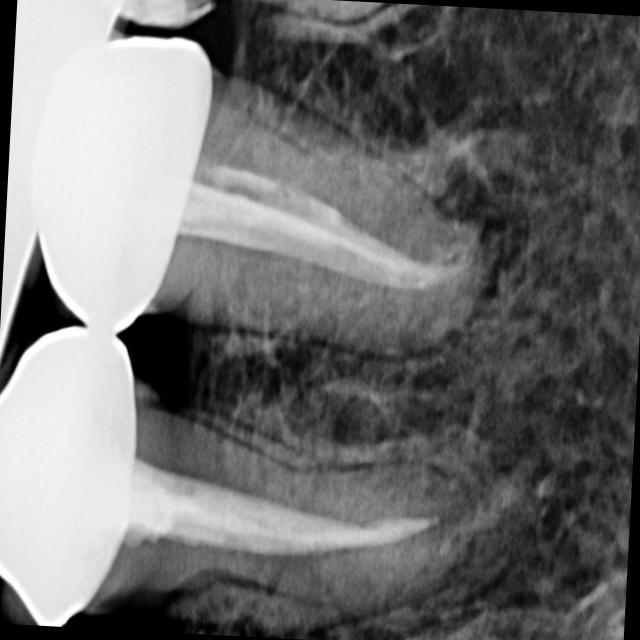Crown: (14, 16, 250, 344), (0, 331, 150, 631)
